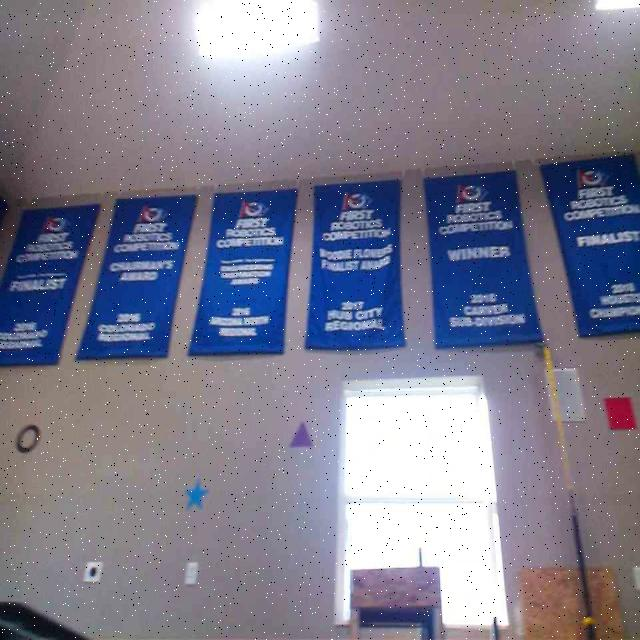ring_black: (14, 423, 40, 453)
square_red: (601, 394, 637, 428)
star_blue: (183, 478, 208, 508)
triangle_purple: (289, 422, 314, 446)
